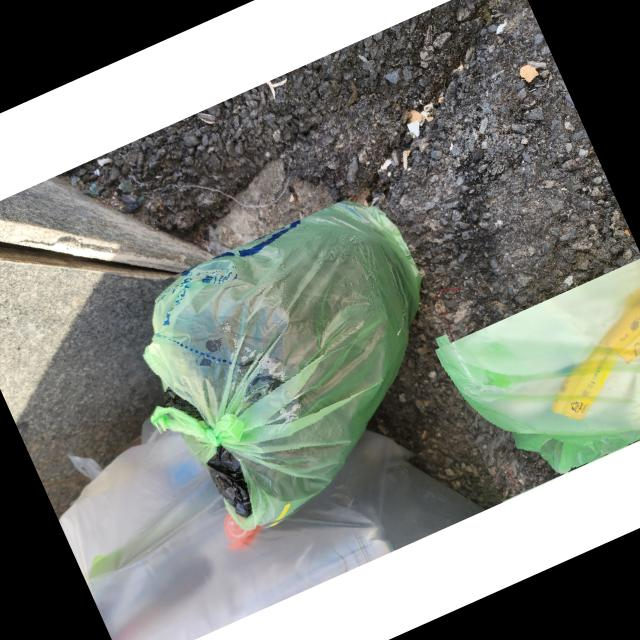general_trashbag: (143, 201, 422, 531), (437, 267, 640, 473)
